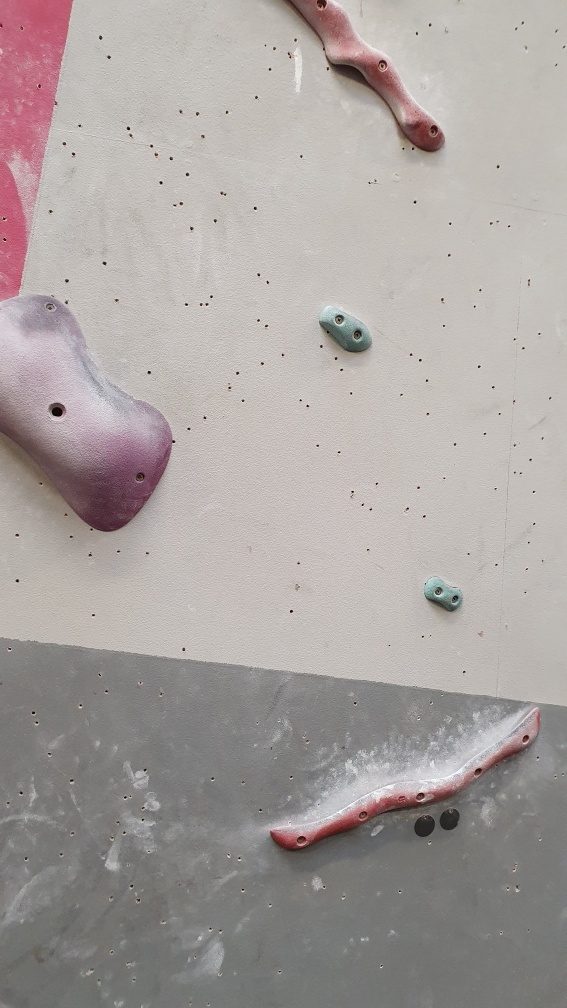Hand Start: (439, 804, 469, 834), (412, 812, 439, 839)
Pinch: (263, 704, 545, 862), (280, 1, 450, 153), (317, 296, 376, 360), (423, 573, 465, 616)
